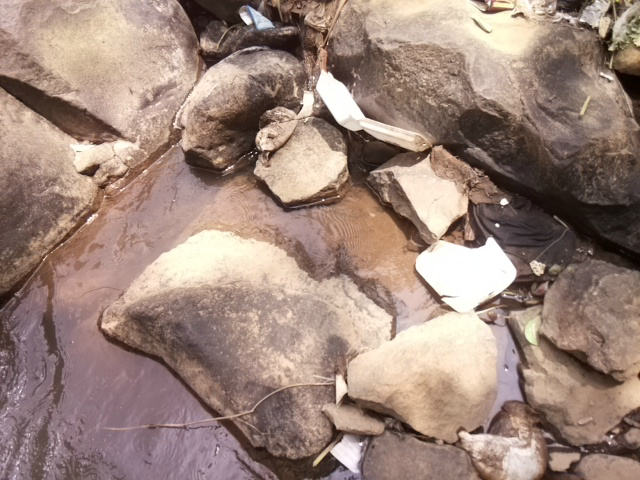Sampah_Styrofoam: (308, 67, 432, 156), (415, 238, 520, 315)
